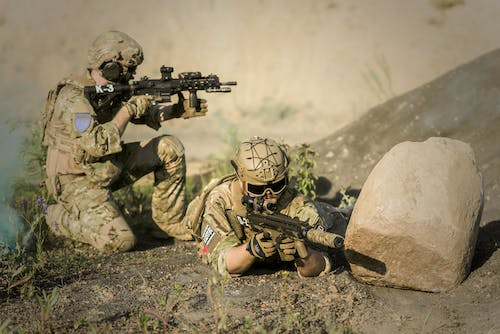gun: (83, 62, 242, 115), (239, 193, 346, 263)
